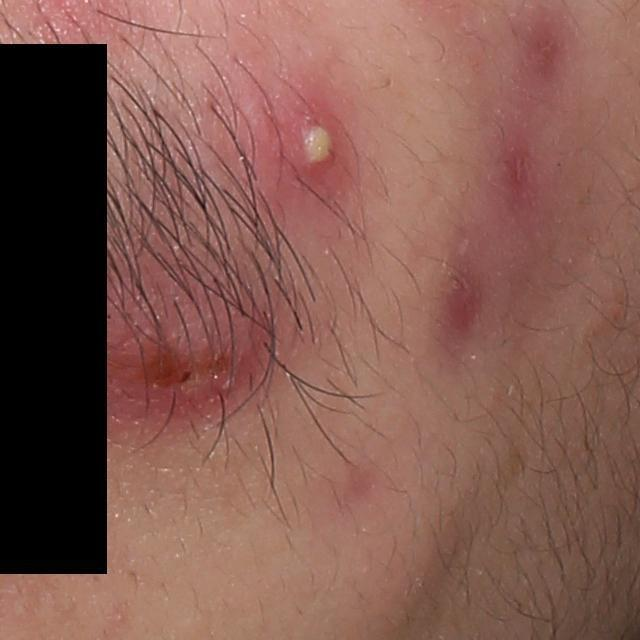papule: (111, 292, 263, 417)
pustule: (275, 89, 354, 208)
